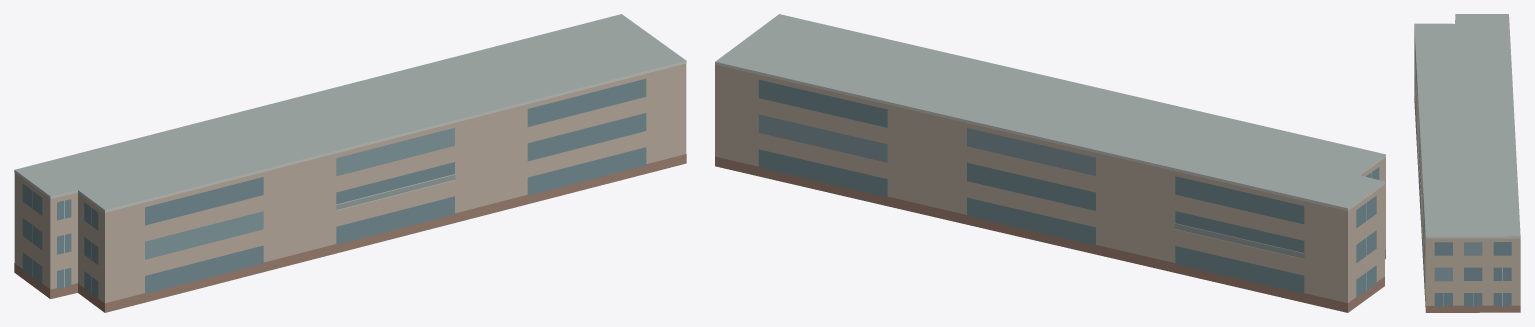
The model's file is survey-upis-32736847.glb.
The picture shows the model from 3 angles, left to right: view 1: azimuth 30°, elevation 25°; view 2: azimuth 150°, elevation 25°; view 3: azimuth 270°, elevation 25°; orthographic projection. The views are drawn at different scales.
Parts seen in each view (by area): view 1: survey-upis-32736847.tmp; view 2: survey-upis-32736847.tmp; view 3: survey-upis-32736847.tmp.
Boxes of the visible parts, left/top/right/bottom form: survey-upis-32736847.tmp: left=14, top=14, right=686, bottom=312; survey-upis-32736847.tmp: left=715, top=14, right=1385, bottom=312; survey-upis-32736847.tmp: left=1414, top=14, right=1520, bottom=312.
Bounding box in the file's own units: 57.35 × 9.15 × 11.57.
